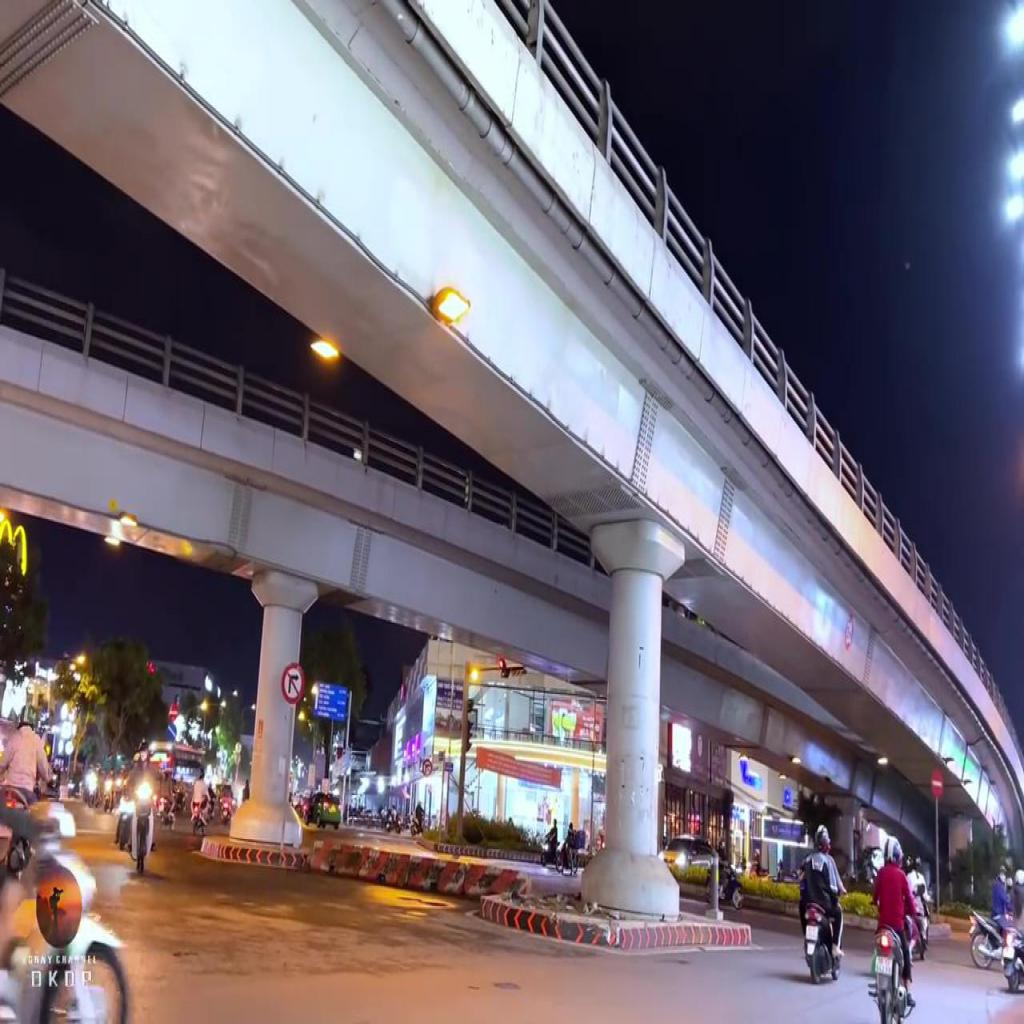cam_re_phai: (281, 660, 303, 702), (422, 760, 432, 776)
cam_xe_di_nguoc_chieu: (929, 768, 943, 798)
han_che_chieu_cao: (844, 613, 854, 647)
